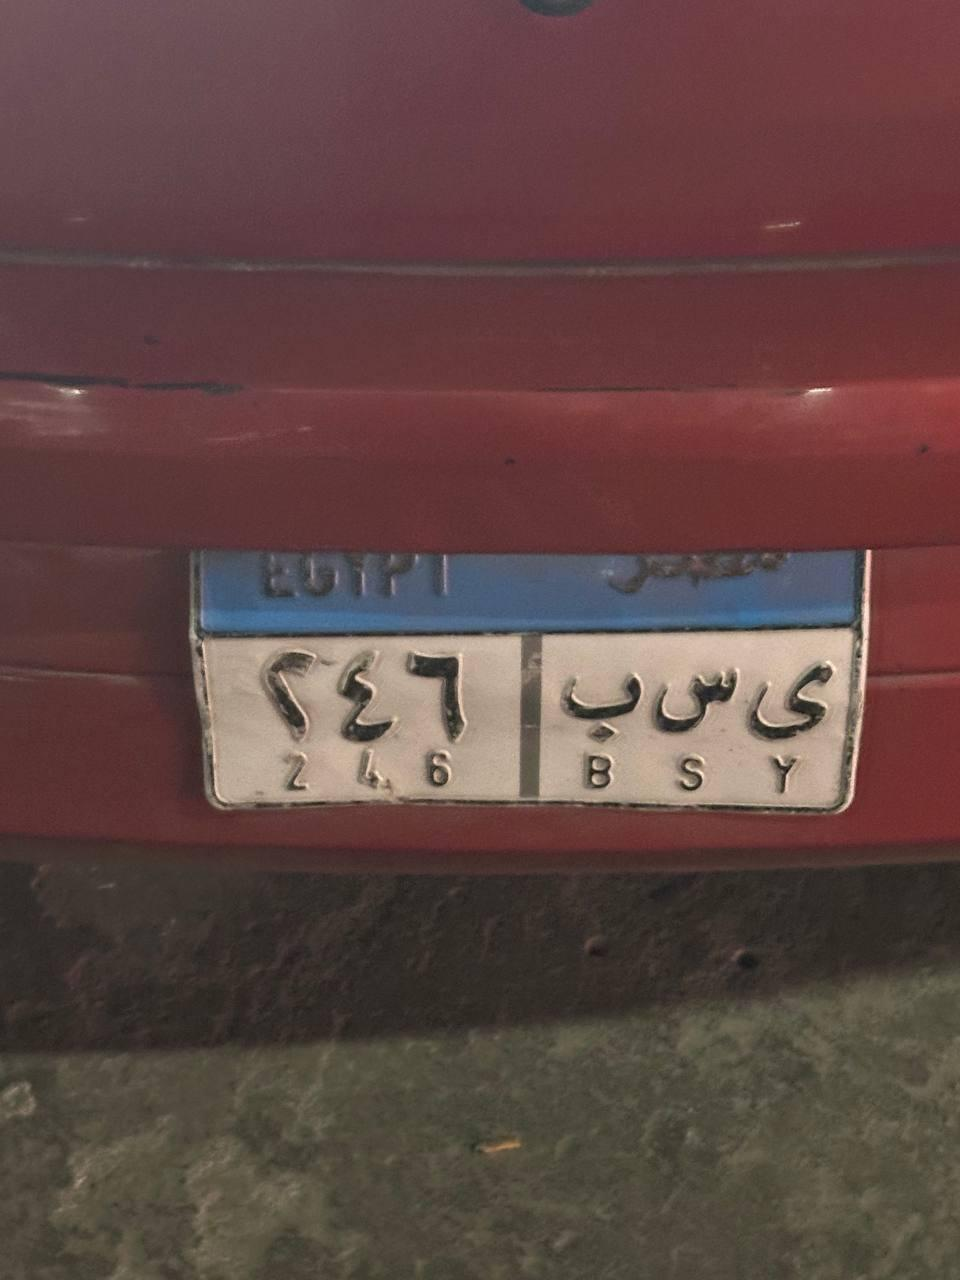2: (268, 654, 316, 743)
4: (330, 636, 414, 752)
6: (399, 638, 468, 750)
License Plate: (184, 545, 873, 818)
Seen: (643, 658, 738, 738)
Yeeh: (744, 642, 836, 748)
baa: (558, 673, 651, 746)
